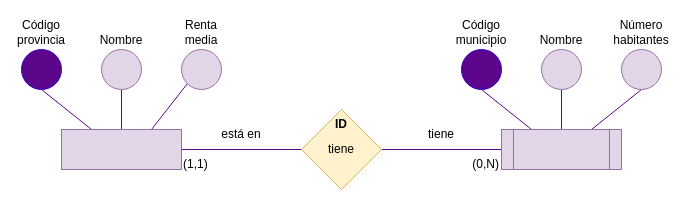
Some shapes in this 686 by 207 pixel diagram are drawn without their labels. Here are the shapes that lost their labels. From the top down, the box of each, then its label:
(60, 128, 182, 170): Provincia
(500, 128, 622, 170): Municipio
